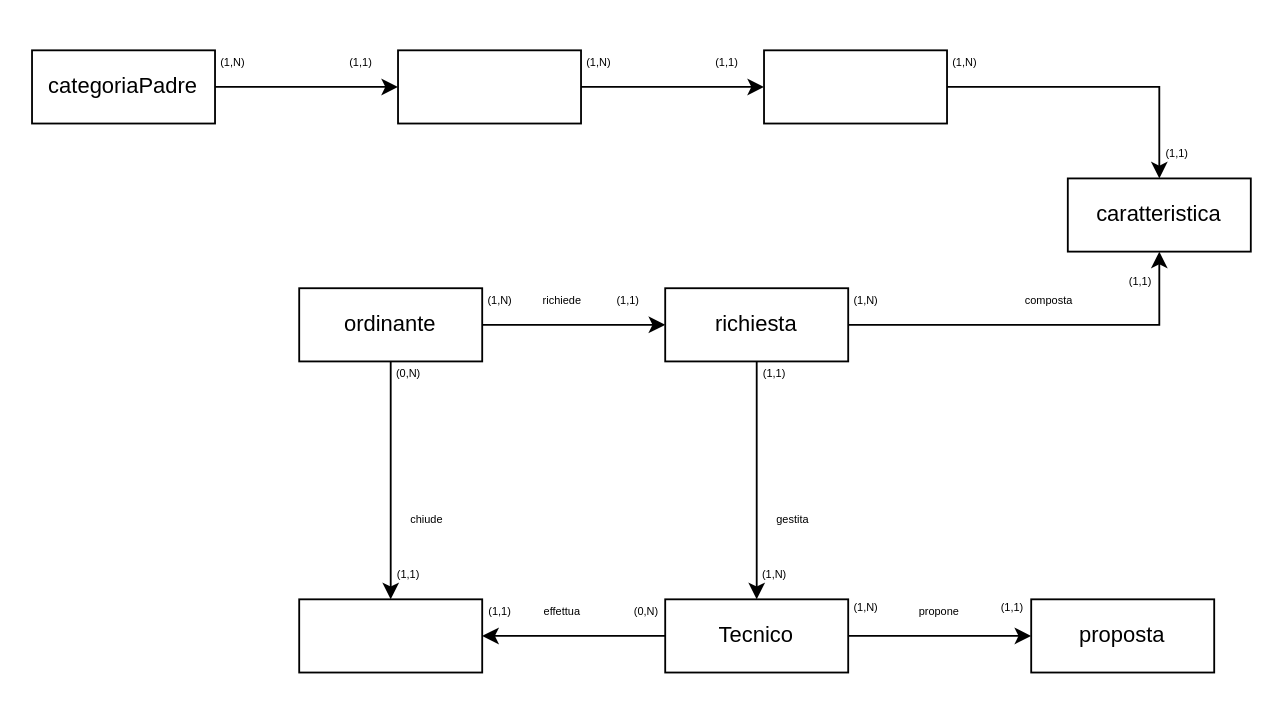
Image size: 1283x705. Some labels were removed from this diagram. The centre of each missing label's shape, as x and y in pixels:
categoriaFiglio: the point at 488,86
categoriaNipote: the point at 854,86
ordine: the point at 389,635
